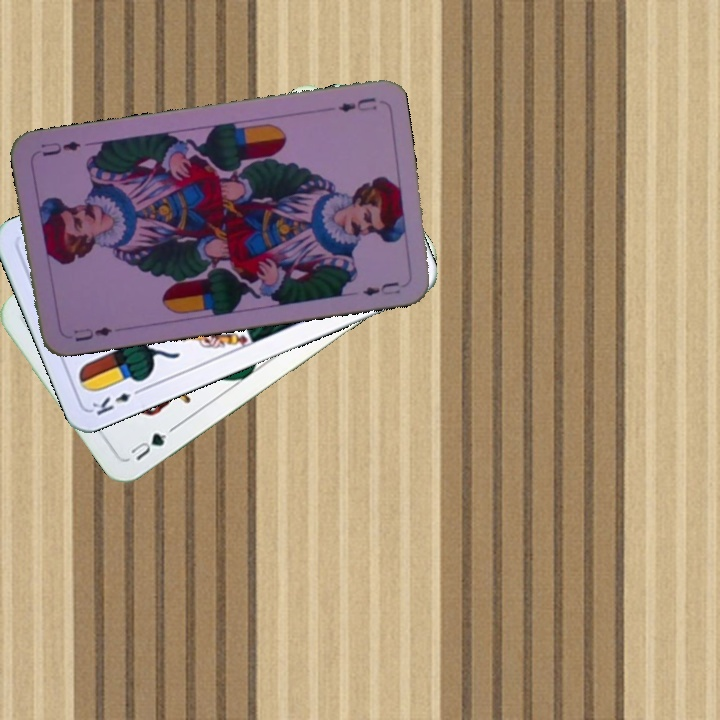EK: (88, 383, 146, 419)
EU: (69, 322, 115, 344), (334, 93, 379, 115)
GU: (126, 423, 177, 464)
